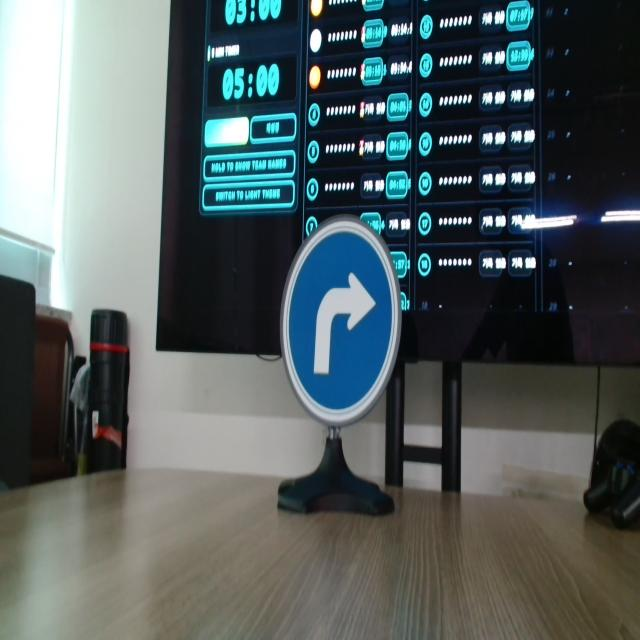right_dierection: (274, 212, 405, 423)
